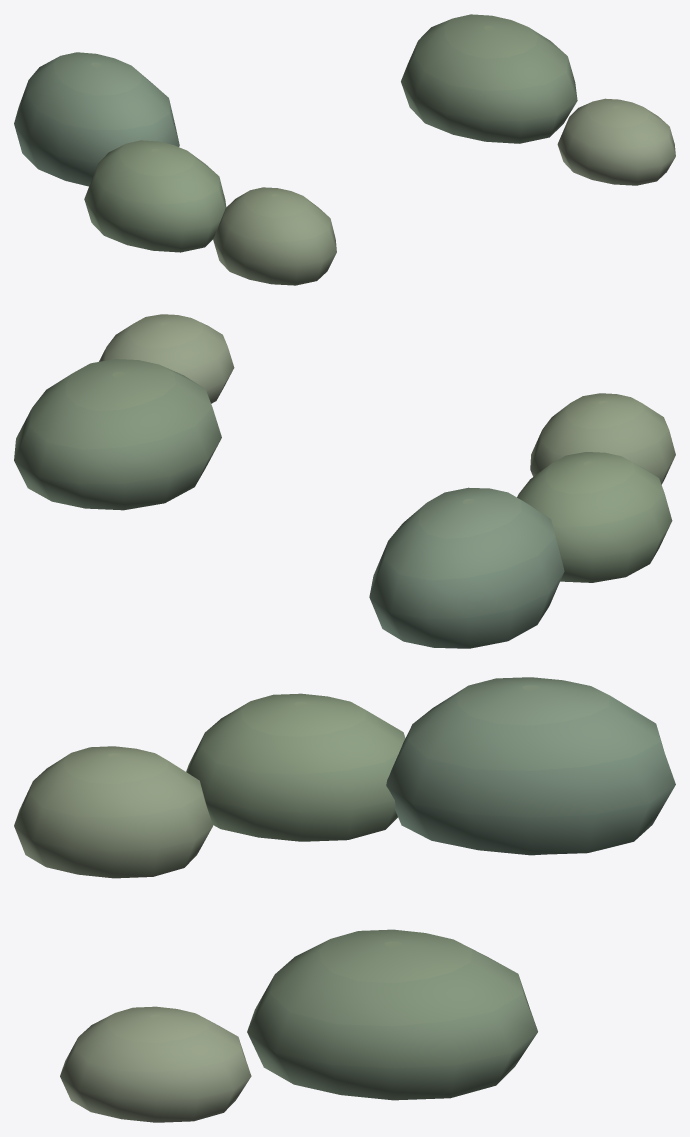
Rendered from Origin_Stream_Bank_Stone_Cluster.glb.
3 renders of one model, top to bottom at view 1: azimuth 30°, elevation 25°; view 2: azimuth 150°, elevation 25°; view 3: azimuth 270°, elevation 25°, orthographic. The views are drawn at different scales.
Visible parts, largest first — view 1: Origin_Stream_Bank_Stone_Cluster; view 2: Origin_Stream_Bank_Stone_Cluster; view 3: Origin_Stream_Bank_Stone_Cluster.
Boxes of the visible parts, box(x1,y1,x2,y2) form: Origin_Stream_Bank_Stone_Cluster: box(14, 14, 675, 285); Origin_Stream_Bank_Stone_Cluster: box(14, 314, 675, 648); Origin_Stream_Bank_Stone_Cluster: box(14, 677, 675, 1122).
Bounding box in the file's own units: 2.22 × 0.4266 × 1.73.
